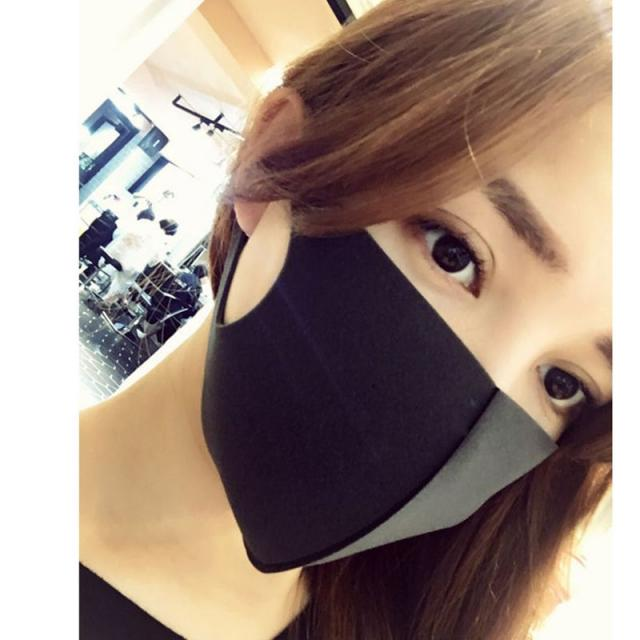mask: (198, 162, 622, 574)
